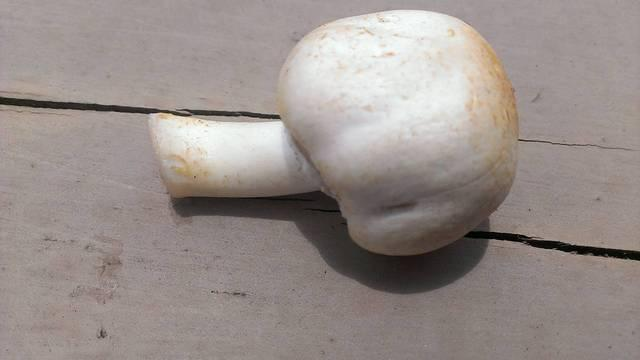poisonous_mushroom: (146, 8, 520, 257)
